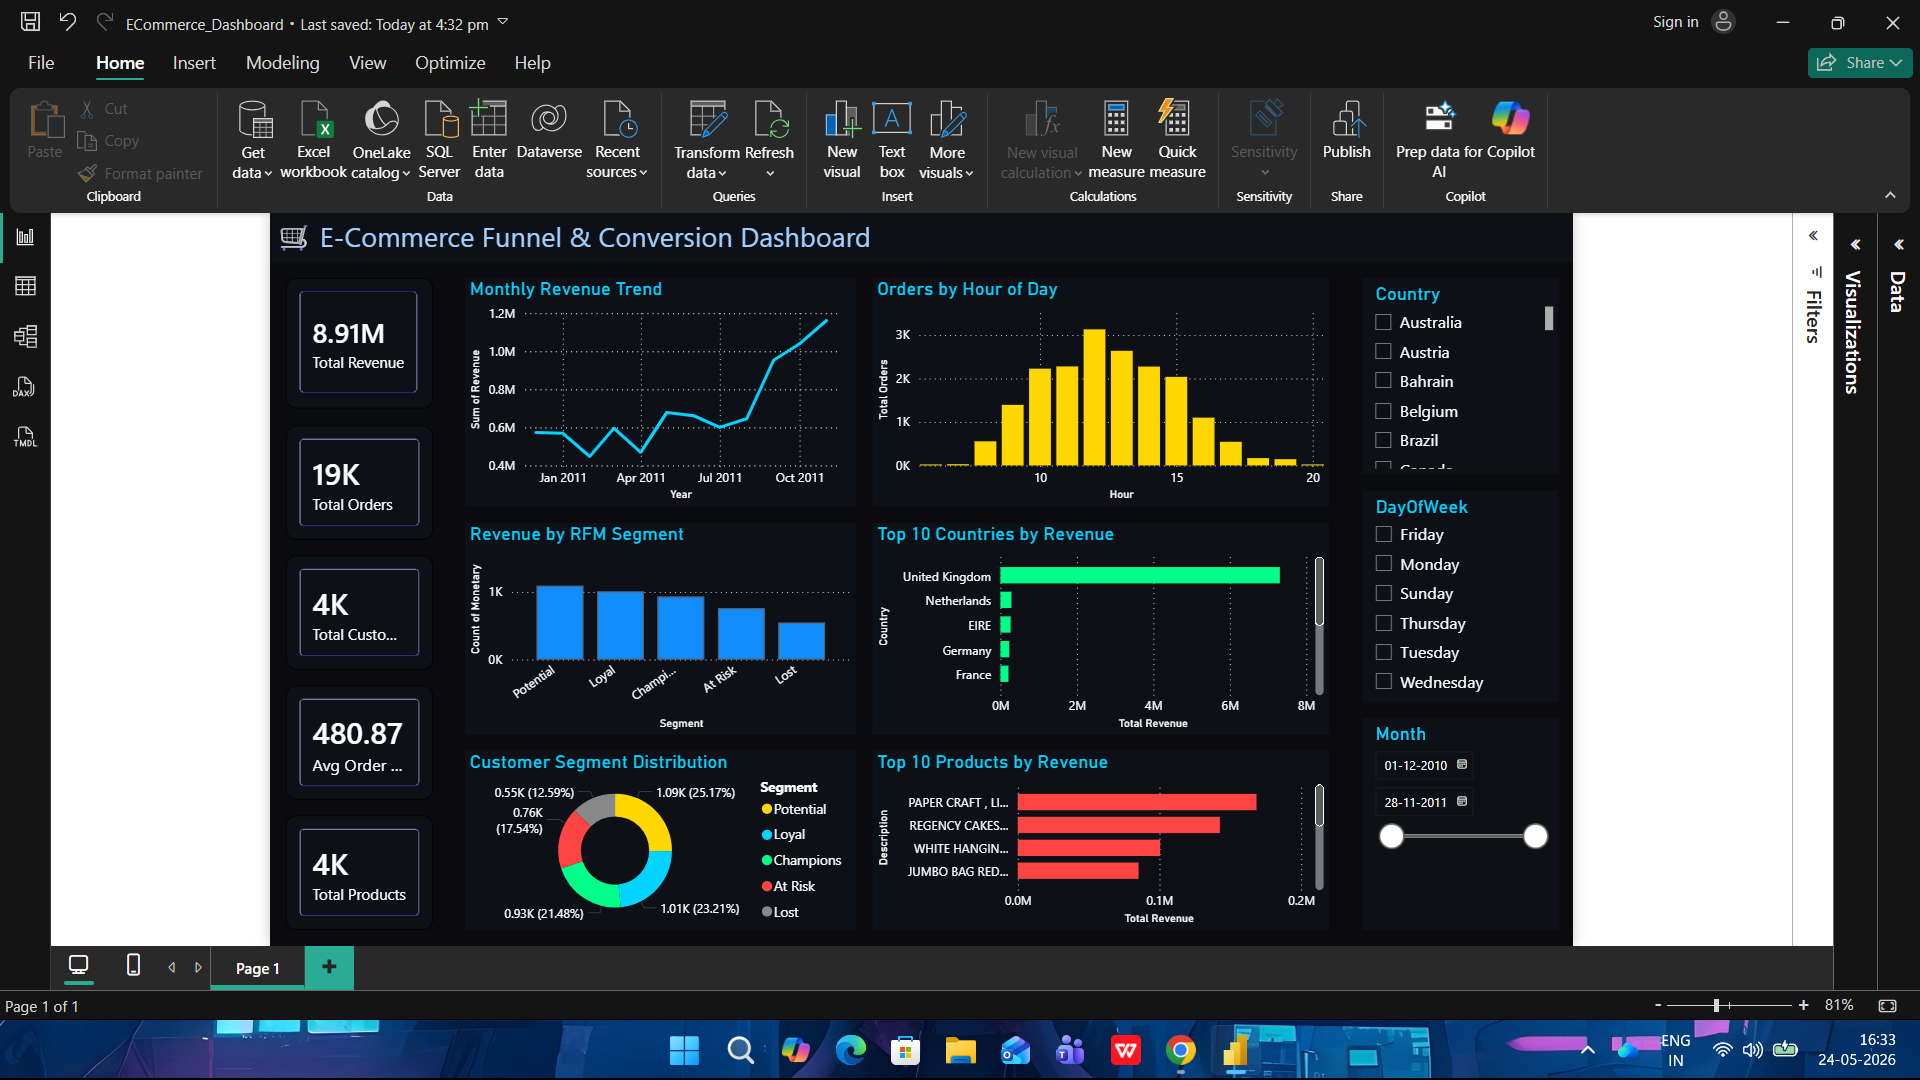

Layout of this report page (visuals, bound fields, positions):
{"tool":"powerbi","page":{"name":"Page 1","canvas":[1280,720],"ordinal":0},"visuals":[{"type":"textbox","box":[0,0,1280,48],"z":0},{"type":"cardVisual","fields":{"Data":["ecommerce_powerbi.Total Revenue"]},"box":[16,64,144,128],"z":1000},{"type":"cardVisual","fields":{"Data":["ecommerce_powerbi.Total Orders"]},"box":[16,208,144,112],"z":2000},{"type":"cardVisual","fields":{"Data":["ecommerce_powerbi.Avg Order Value"]},"box":[16,464,144,112],"z":3000},{"type":"cardVisual","fields":{"Data":["ecommerce_powerbi.Total Products"]},"box":[16,592,144,112],"z":4000},{"type":"cardVisual","fields":{"Data":["ecommerce_powerbi.Total Customers"]},"box":[16,336,144,112],"z":5000},{"type":"lineChart","title":"Monthly Revenue Trend","fields":{"Y":["Sum(monthly_summary.Revenue)"],"Category":["monthly_summary.Month.Variation.Date Hierarchy.Year","monthly_summary.Month.Variation.Date Hierarchy.Quarter","monthly_summary.Month.Variation.Date Hierarchy.Month","monthly_summary.Month.Variation.Date Hierarchy.Day"]},"box":[192,64,384,224],"z":6000},{"type":"clusteredBarChart","title":"Top 10 Countries by Revenue","fields":{"Category":["ecommerce_powerbi.Country"],"Y":["ecommerce_powerbi.Total Revenue"]},"box":[592,304,448,208],"z":7000},{"type":"clusteredColumnChart","title":"Revenue by RFM Segment","fields":{"Category":["rfm_segments.Segment"],"Y":["CountNonNull(rfm_segments.Monetary)"]},"box":[192,304,384,208],"z":8000},{"type":"donutChart","title":"Customer Segment Distribution","fields":{"Category":["rfm_segments.Segment"],"Y":["CountNonNull(rfm_segments.Monetary)"]},"box":[192,528,384,176],"z":9000},{"type":"clusteredColumnChart","title":"Orders by Hour of Day","fields":{"Category":["ecommerce_powerbi.Hour"],"Y":["ecommerce_powerbi.Total Orders"]},"box":[592,64,448,224],"z":10000},{"type":"clusteredBarChart","title":"Top 10 Products by Revenue","fields":{"Category":["ecommerce_powerbi.Description"],"Y":["ecommerce_powerbi.Total Revenue"]},"box":[592,528,448,176],"z":11000},{"type":"slicer","fields":{"Values":["ecommerce_powerbi.Country"]},"box":[1072,64,192,192],"z":12000},{"type":"slicer","fields":{"Values":["ecommerce_powerbi.DayOfWeek"]},"box":[1072,272,192,208],"z":13000},{"type":"slicer","fields":{"Values":["monthly_summary.Month"]},"box":[1072,496,192,208],"z":14000}]}

Visuals, with their boxes on the page's 1280x720 design canvas (x1, y1, x2, y2). These are canvas units, not pixel positions in the 1920x1080 screenshot, which may show the page scaled, cropped or inside an application window:
textbox: bbox=(0, 0, 1280, 48)
cardVisual - ecommerce_powerbi.Total Revenue: bbox=(16, 64, 160, 192)
cardVisual - ecommerce_powerbi.Total Orders: bbox=(16, 208, 160, 320)
cardVisual - ecommerce_powerbi.Avg Order Value: bbox=(16, 464, 160, 576)
cardVisual - ecommerce_powerbi.Total Products: bbox=(16, 592, 160, 704)
cardVisual - ecommerce_powerbi.Total Customers: bbox=(16, 336, 160, 448)
"Monthly Revenue Trend" lineChart: bbox=(192, 64, 576, 288)
"Top 10 Countries by Revenue" clusteredBarChart: bbox=(592, 304, 1040, 512)
"Revenue by RFM Segment" clusteredColumnChart: bbox=(192, 304, 576, 512)
"Customer Segment Distribution" donutChart: bbox=(192, 528, 576, 704)
"Orders by Hour of Day" clusteredColumnChart: bbox=(592, 64, 1040, 288)
"Top 10 Products by Revenue" clusteredBarChart: bbox=(592, 528, 1040, 704)
slicer - ecommerce_powerbi.Country: bbox=(1072, 64, 1264, 256)
slicer - ecommerce_powerbi.DayOfWeek: bbox=(1072, 272, 1264, 480)
slicer - monthly_summary.Month: bbox=(1072, 496, 1264, 704)
